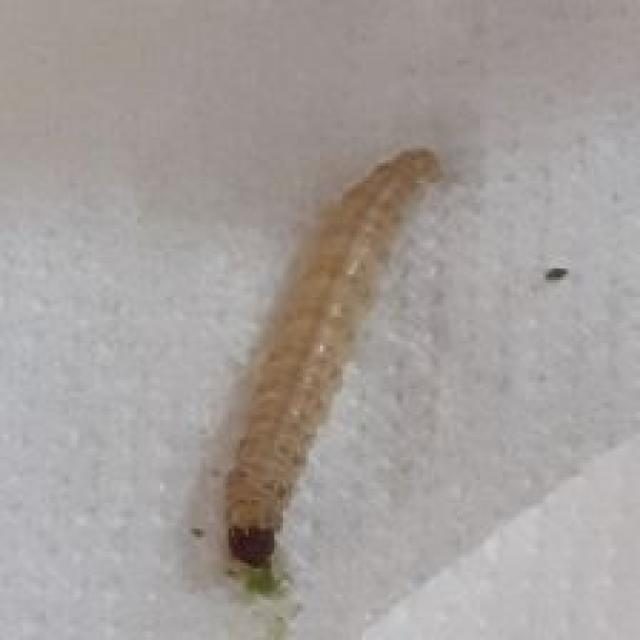white mucus: (192, 143, 520, 595)
